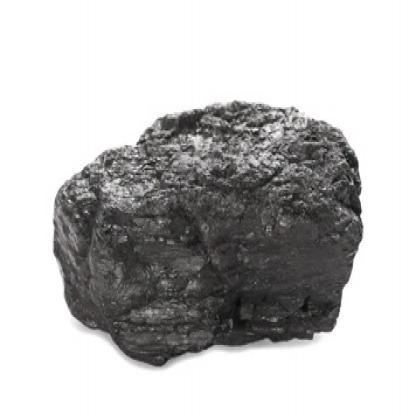Sedimentary_coal: (26, 94, 370, 360)
